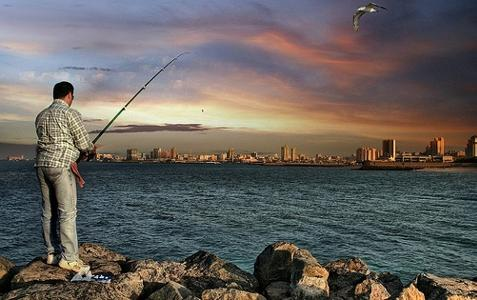person: (36, 82, 94, 272)
